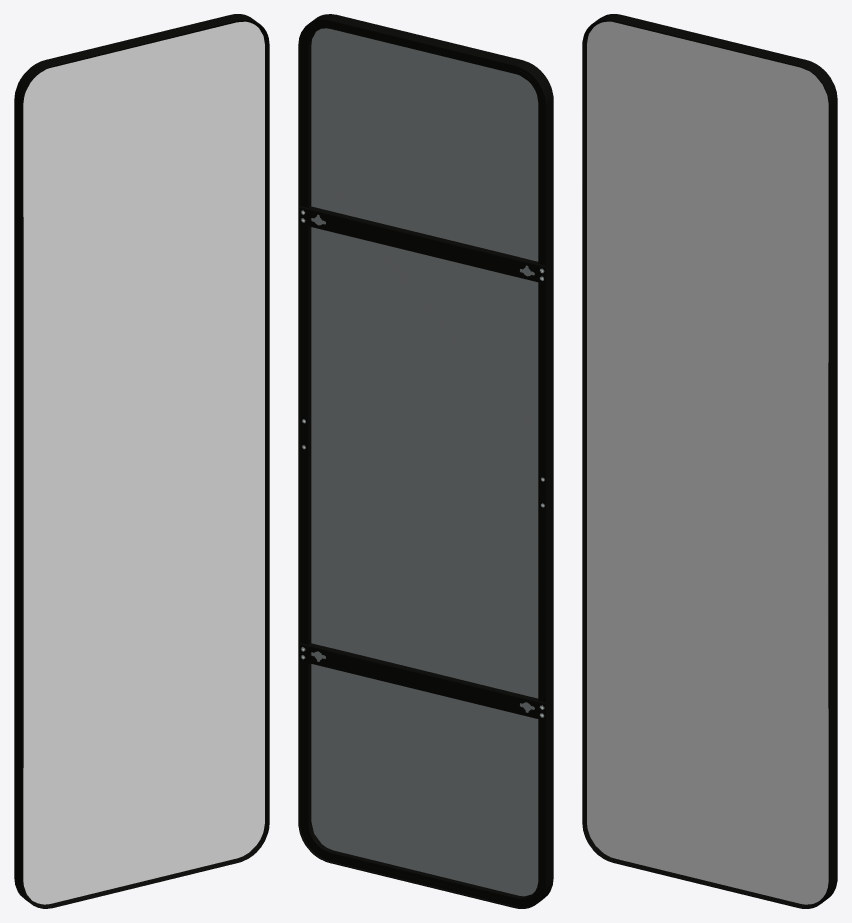
Rendered from lindbyn_lustro_20458615.glb.
3 renders of one model, left to right at view 1: azimuth 30°, elevation 25°; view 2: azimuth 150°, elevation 25°; view 3: azimuth 330°, elevation 25°, orthographic.
Visible parts, largest first — view 1: lindbyn_lustro_20458615; view 2: lindbyn_lustro_20458615; view 3: lindbyn_lustro_20458615.
Part boxes in pixels (x1,y1,x2,y2): lindbyn_lustro_20458615: (14, 14, 269, 908); lindbyn_lustro_20458615: (298, 14, 553, 908); lindbyn_lustro_20458615: (582, 14, 837, 908).
Bounding box in the file's own units: 0.4 × 1.3 × 0.0219.
2 materials, 2 textured.
